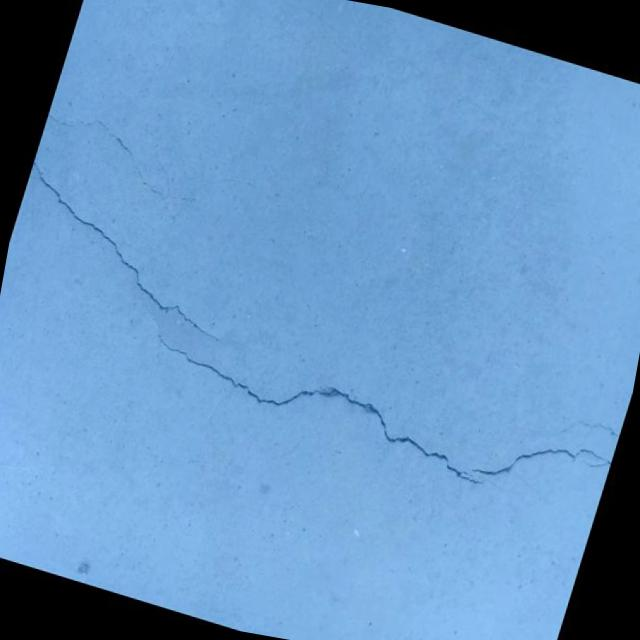crack: (112, 300, 515, 489), (0, 158, 259, 343), (30, 104, 263, 225), (464, 415, 616, 510), (532, 404, 623, 458)
